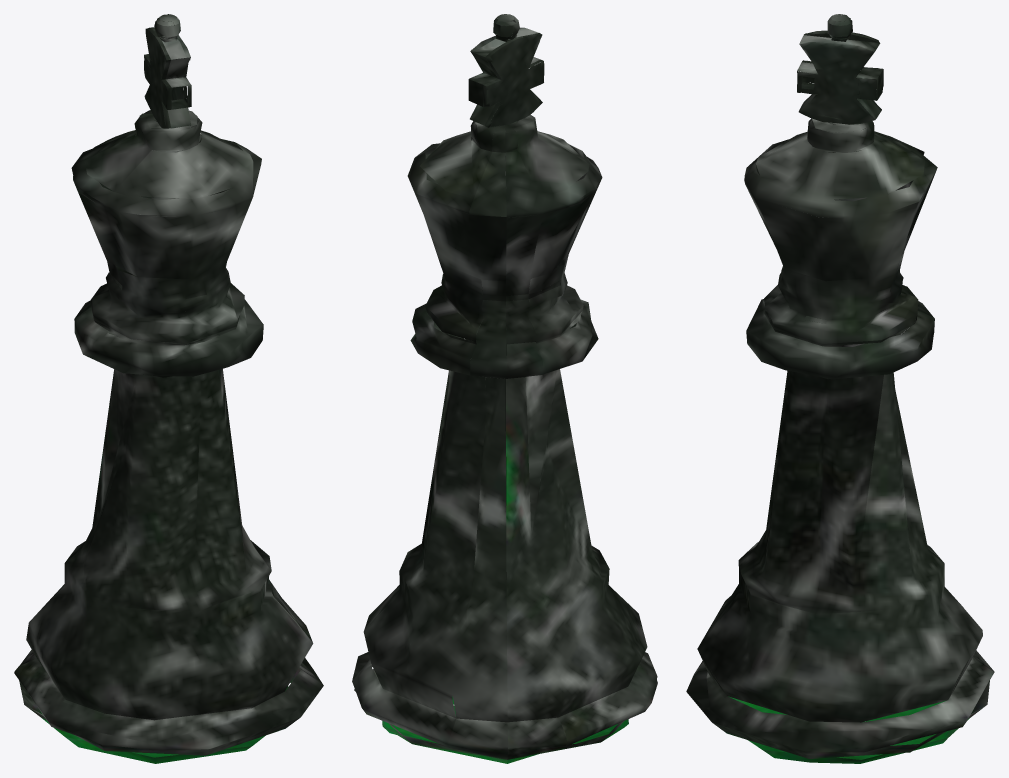
The picture shows the model from 3 angles, left to right: view 1: azimuth 30°, elevation 25°; view 2: azimuth 150°, elevation 25°; view 3: azimuth 270°, elevation 25°; orthographic projection.
Visible parts, largest first — view 1: BK; view 2: BK; view 3: BK.
Part boxes in pixels (x1=…): BK: x1=14, y1=14, x2=323, y2=763; BK: x1=352, y1=14, x2=657, y2=763; BK: x1=686, y1=14, x2=994, y2=763.
Bounding box in the file's own units: 0.0401 × 0.0999 × 0.04.
Materials: 1 (1 with a texture image).
